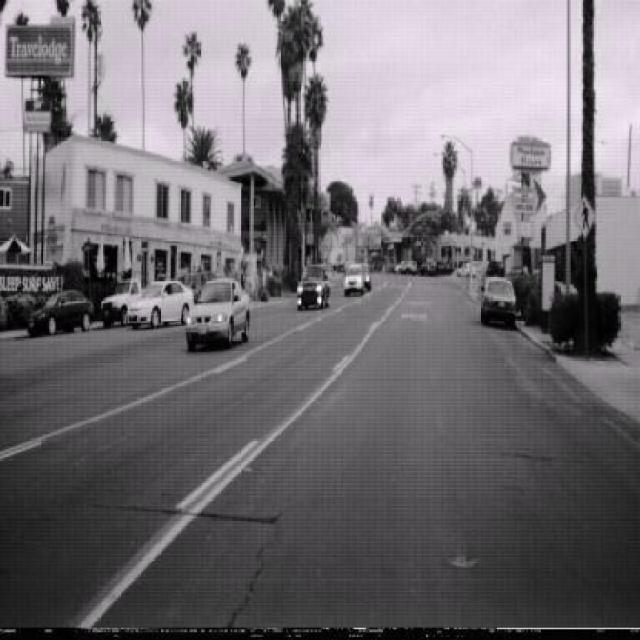pedestrianCrossing: (574, 192, 597, 240)
